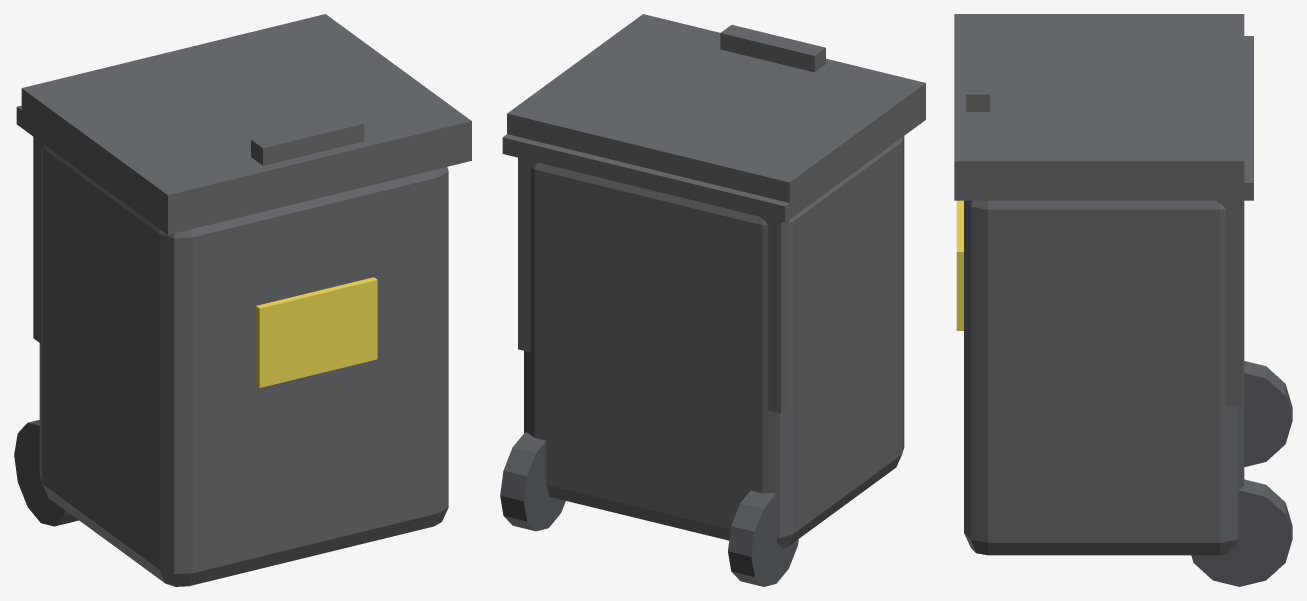
The model's file is swarf-bin-on-wheels.glb.
3 views of the same model, side by side, from view 1: azimuth 30°, elevation 25°; view 2: azimuth 150°, elevation 25°; view 3: azimuth 270°, elevation 25° (orthographic). The views are drawn at different scales.
Parts seen in each view (by area): view 1: machine-shop-and-factory-hall-swarf-wheelie-bin, bin-lid/charcoal; view 2: machine-shop-and-factory-hall-swarf-wheelie-bin, bin-lid/charcoal; view 3: machine-shop-and-factory-hall-swarf-wheelie-bin, bin-lid/charcoal.
Boxes of the visible parts, box(x1,y1,x2,y2) form: machine-shop-and-factory-hall-swarf-wheelie-bin: box(14, 105, 471, 586); bin-lid/charcoal: box(21, 14, 471, 217); machine-shop-and-factory-hall-swarf-wheelie-bin: box(500, 103, 925, 586); bin-lid/charcoal: box(507, 14, 925, 202); machine-shop-and-factory-hall-swarf-wheelie-bin: box(954, 36, 1292, 586); bin-lid/charcoal: box(954, 14, 1244, 182).
Size of the model in its own units: 0.72 by 1.03 by 0.7.
